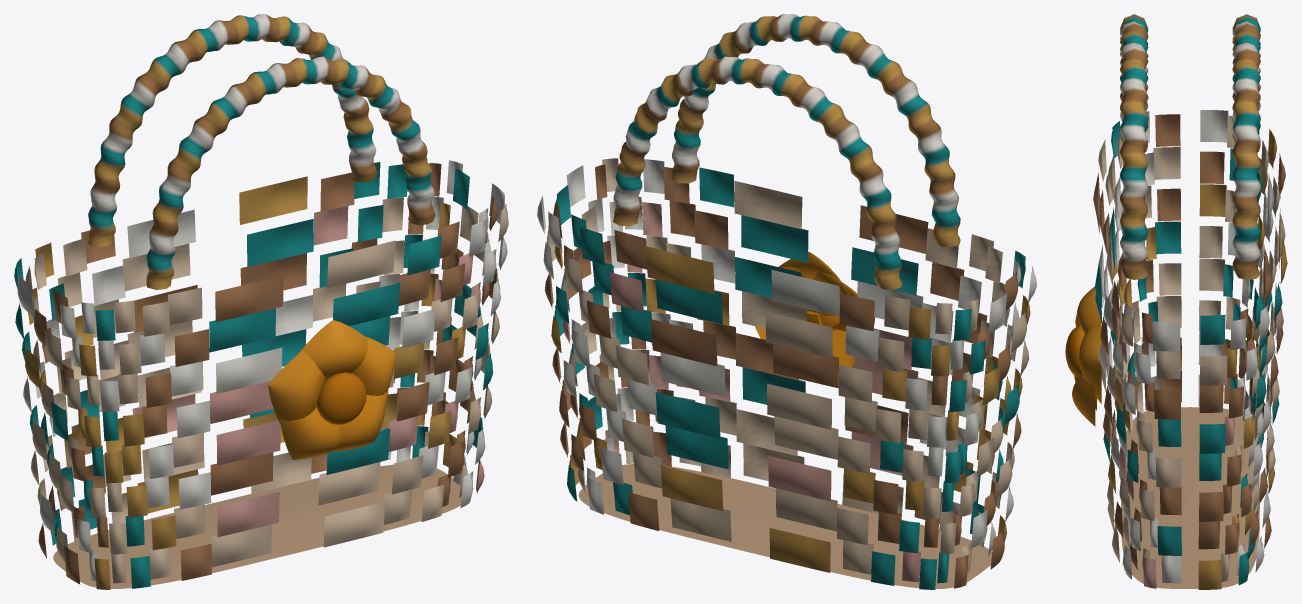
Rendered from tas.glb.
3 views of the same model, side by side, from view 1: azimuth 30°, elevation 25°; view 2: azimuth 150°, elevation 25°; view 3: azimuth 270°, elevation 25° (orthographic). The views are drawn at different scales.
Visible parts, largest first — view 1: tas_anyaman_kemasan; view 2: tas_anyaman_kemasan; view 3: tas_anyaman_kemasan.
Boxes of the visible parts, <box> form: tas_anyaman_kemasan: <box>14,14,508,589</box>; tas_anyaman_kemasan: <box>537,14,1036,589</box>; tas_anyaman_kemasan: <box>1065,14,1287,589</box>.
Bounding box in the file's own units: 0.3079 × 0.3133 × 0.1342.
